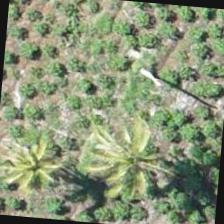Kelapa_Sawit: (78, 116, 176, 214), (0, 116, 85, 214)
